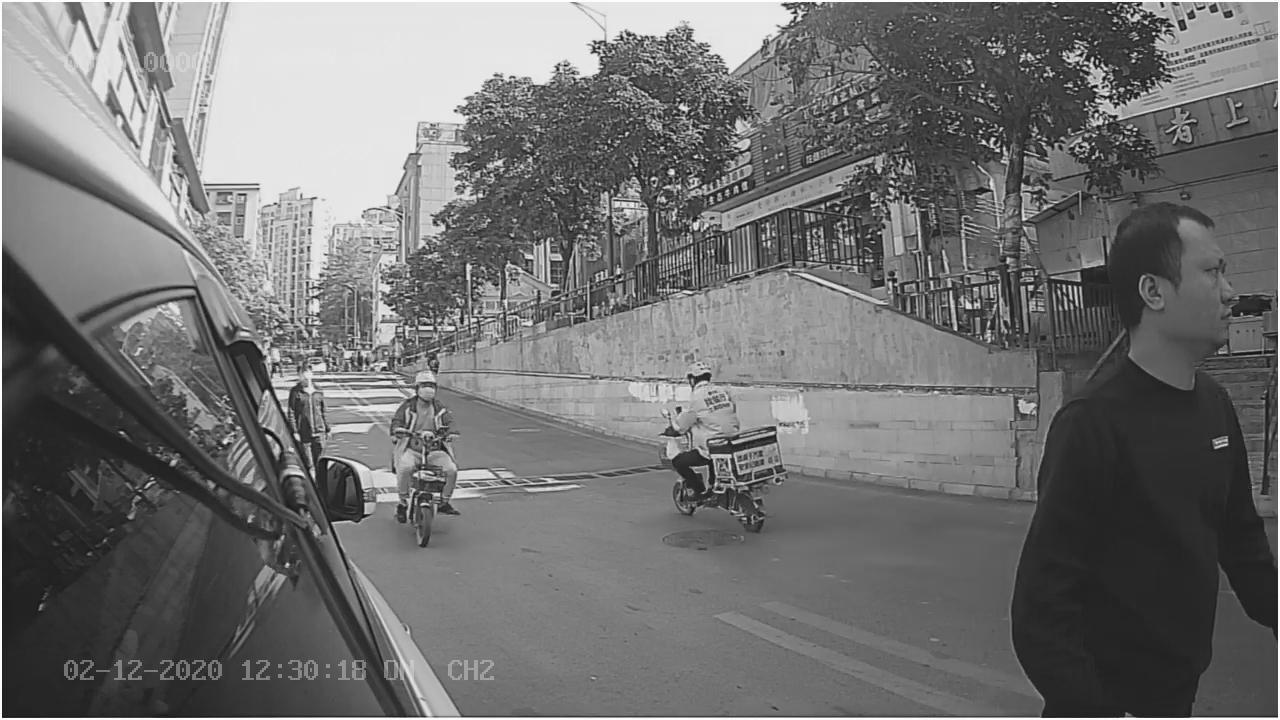person: (1016, 201, 1262, 548)
